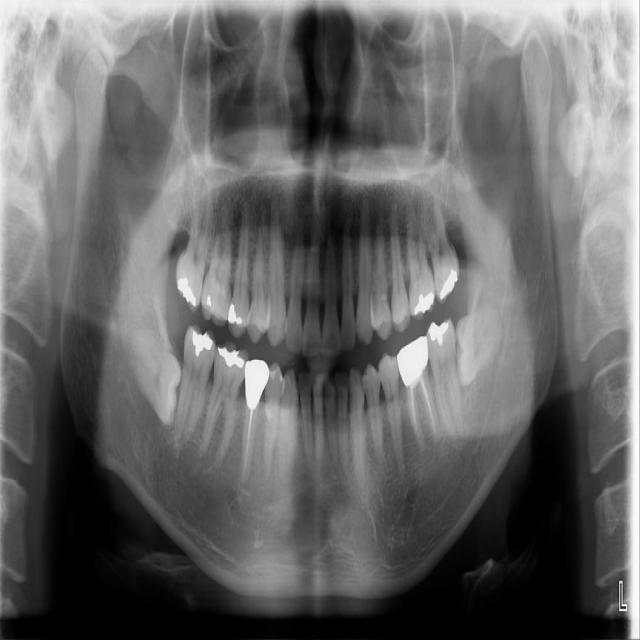Crown: (396, 335, 428, 385), (245, 360, 269, 409)
Filling: (218, 347, 245, 368), (440, 269, 458, 300), (192, 331, 213, 357), (177, 278, 195, 305), (429, 320, 449, 344), (415, 292, 434, 314), (228, 304, 242, 325), (206, 296, 211, 307)
Root Canal Treatment: (410, 384, 421, 444), (424, 381, 435, 441), (242, 412, 251, 478)
impacted tooth: (128, 334, 182, 424), (457, 304, 504, 385)
